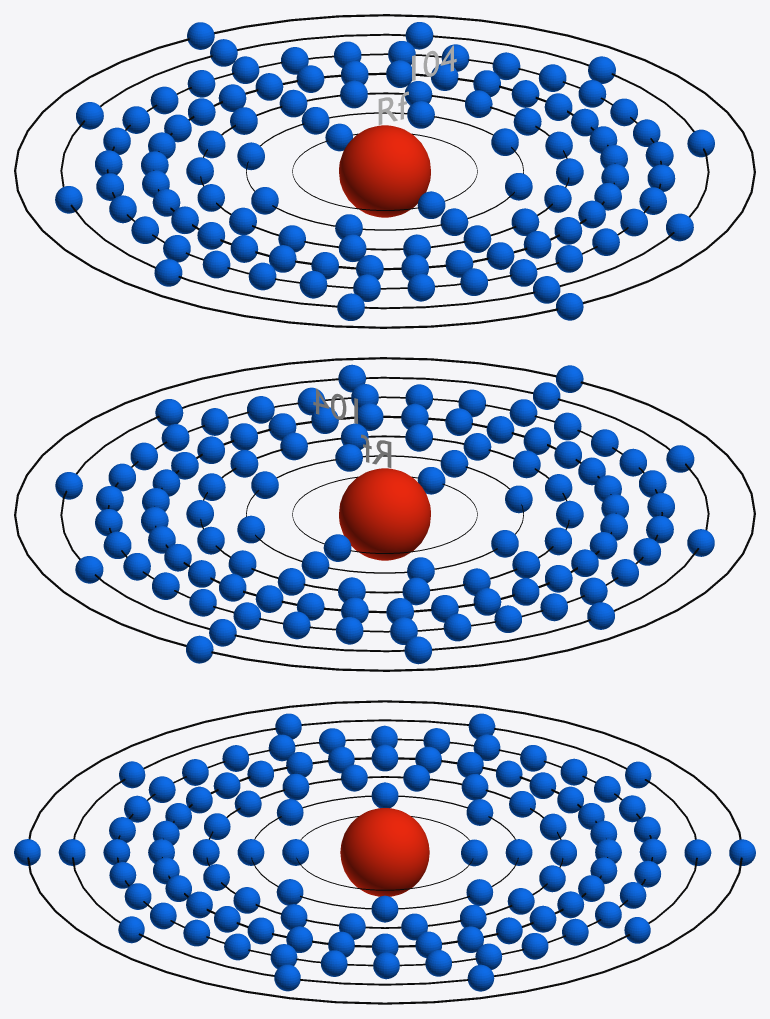
3 renders of one model, top to bottom at view 1: azimuth 30°, elevation 25°; view 2: azimuth 150°, elevation 25°; view 3: azimuth 270°, elevation 25°, orthographic. The views are drawn at different scales.
Visible parts, largest first — view 1: Rf5, Rf4, Rf3, Proton, Rf6, Rf2, n7, n6, Rf7, n5, Rf1, n3 (+2 smaller); view 2: Rf5, Rf4, Rf3, Proton, Rf6, Rf2, n7, n6, n5, Rf7, Rf1, n3 (+2 smaller); view 3: Rf5, Rf4, Rf3, Proton, Rf6, Rf2, n7, n6, n5, Rf1, Rf7, n3 (+2 smaller).
Part boxes in pixels (x1,y1,x2,y2): Rf5: [95, 41, 675, 301]; Rf4: [141, 60, 628, 280]; Rf3: [186, 80, 583, 261]; Proton: [339, 125, 430, 217]; Rf6: [55, 22, 714, 320]; Rf2: [237, 101, 532, 239]; n7: [14, 14, 755, 328]; n6: [60, 33, 709, 309]; Rf7: [187, 22, 583, 320]; n5: [106, 53, 661, 289]; Rf1: [325, 123, 445, 218]; n3: [200, 92, 569, 250]; Rf5: [95, 384, 674, 644]; Rf4: [141, 403, 628, 623]; Rf3: [186, 423, 583, 605]; Proton: [339, 468, 430, 560]; Rf6: [55, 364, 714, 664]; Rf2: [237, 444, 532, 582]; n7: [14, 357, 755, 671]; n6: [60, 376, 709, 652]; n5: [107, 396, 663, 632]; Rf7: [186, 365, 583, 663]; Rf1: [323, 467, 445, 561]; n3: [200, 435, 569, 593]; Rf5: [103, 725, 666, 979]; Rf4: [148, 744, 621, 957]; Rf3: [193, 764, 576, 940]; Proton: [340, 808, 429, 896]; Rf6: [58, 713, 711, 991]; Rf2: [237, 782, 532, 922]; n7: [27, 700, 742, 1004]; n6: [72, 719, 697, 985]; n5: [117, 738, 652, 966]; Rf1: [282, 839, 487, 866]; Rf7: [14, 839, 755, 865]; n3: [206, 776, 563, 928].
Size of the model in its own units: 802 by 180 by 830.
